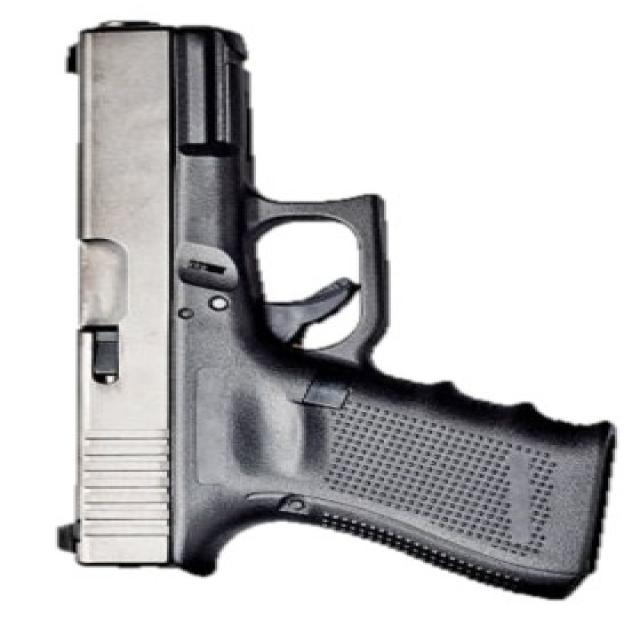pistol: (41, 9, 633, 608)
